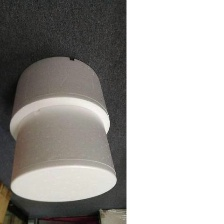foam_box: (6, 102, 120, 207), (5, 52, 112, 148)
